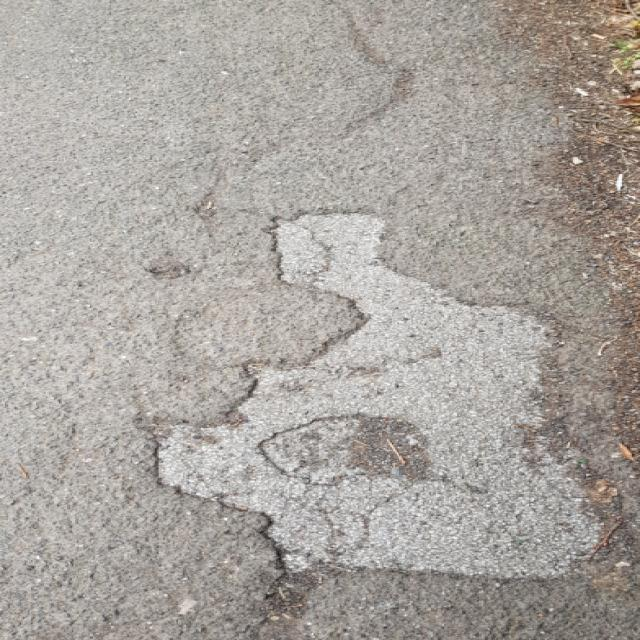Pothole: (135, 206, 635, 587), (259, 411, 440, 487)
